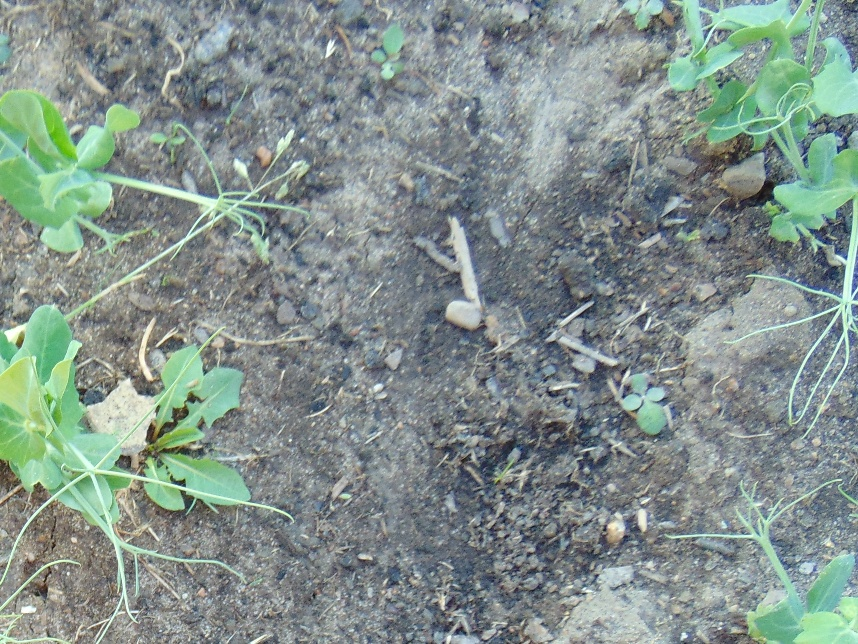crop: (1, 82, 274, 261), (666, 1, 858, 242), (1, 301, 161, 589), (755, 88, 858, 362), (735, 483, 858, 644)
weed: (158, 345, 249, 514), (620, 373, 673, 434), (367, 23, 407, 81)
